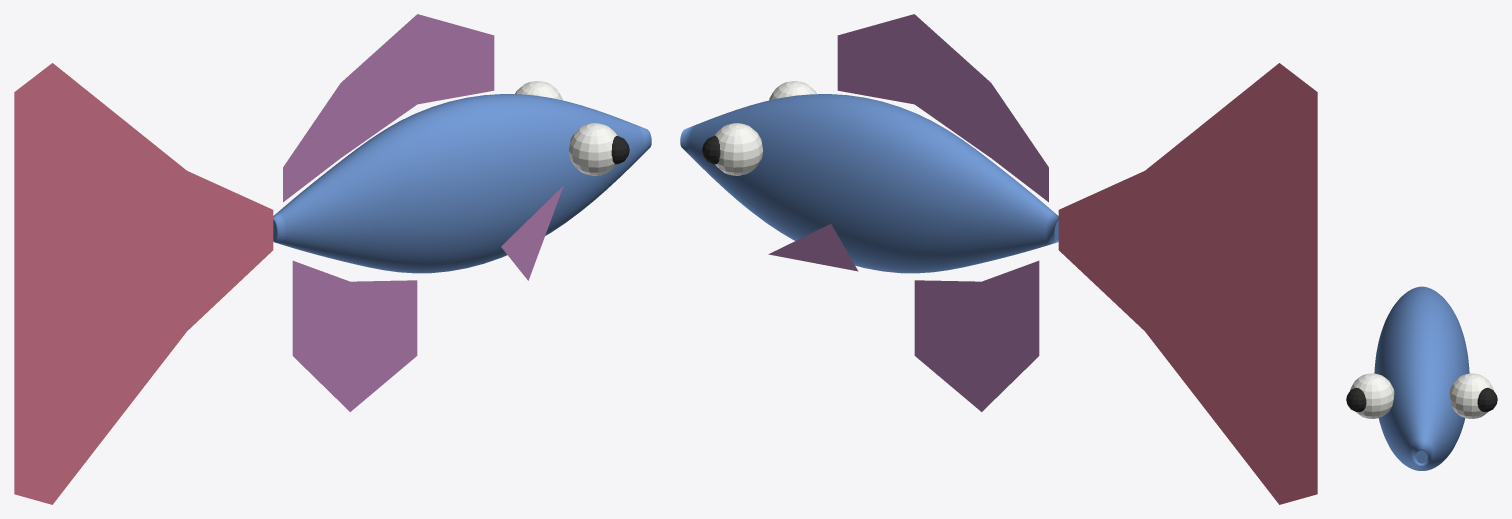
Rendered from betta.glb.
The picture shows the model from 3 angles, left to right: view 1: azimuth 30°, elevation 25°; view 2: azimuth 150°, elevation 25°; view 3: azimuth 270°, elevation 25°; orthographic projection. The views are drawn at different scales.
Parts seen in each view (by area): view 1: betta_tail, betta_body, betta_dorsal, betta_anal, betta_eyew_R, betta_pec_R; view 2: betta_tail, betta_body, betta_dorsal, betta_anal, betta_eyew_L, betta_pec_L; view 3: betta_body, betta_eyew_L, betta_eyew_R, betta_eye_L, betta_eye_R.
Part boxes in pixels (x1,y1,x2,y2): betta_tail: [14, 63, 273, 504]; betta_body: [273, 94, 651, 273]; betta_dorsal: [283, 14, 494, 202]; betta_anal: [292, 260, 417, 411]; betta_eyew_R: [569, 123, 617, 175]; betta_pec_R: [501, 186, 563, 280]; betta_tail: [1058, 63, 1317, 504]; betta_body: [680, 94, 1058, 273]; betta_dorsal: [837, 14, 1048, 202]; betta_anal: [914, 260, 1039, 411]; betta_eyew_L: [714, 123, 762, 175]; betta_pec_L: [768, 224, 858, 271]; betta_body: [1374, 286, 1469, 470]; betta_eyew_L: [1449, 373, 1493, 418]; betta_eyew_R: [1350, 373, 1394, 418]; betta_eye_L: [1477, 387, 1497, 412]; betta_eye_R: [1346, 387, 1366, 412].
Size of the model in its own units: 0.66 by 0.44 by 0.158.
